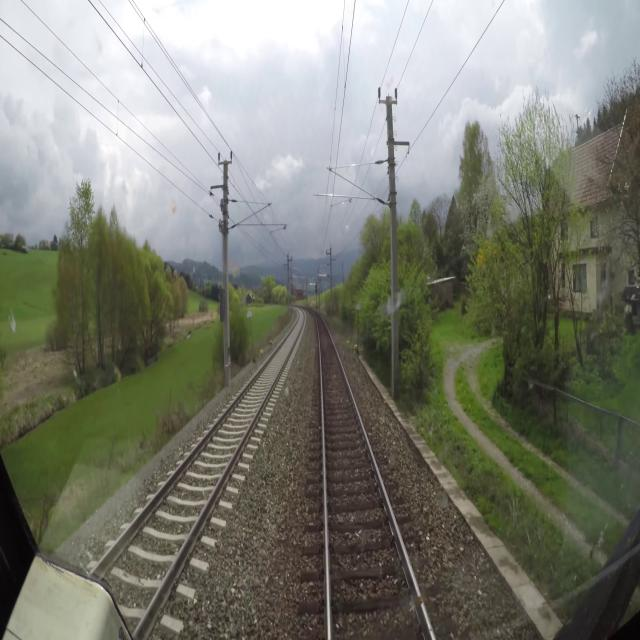rail-track: (95, 311, 303, 628), (314, 313, 431, 639)
